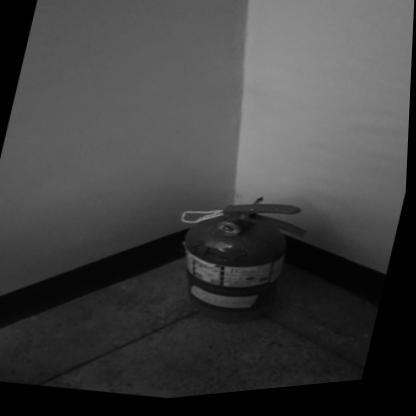FE: (168, 186, 311, 340)
